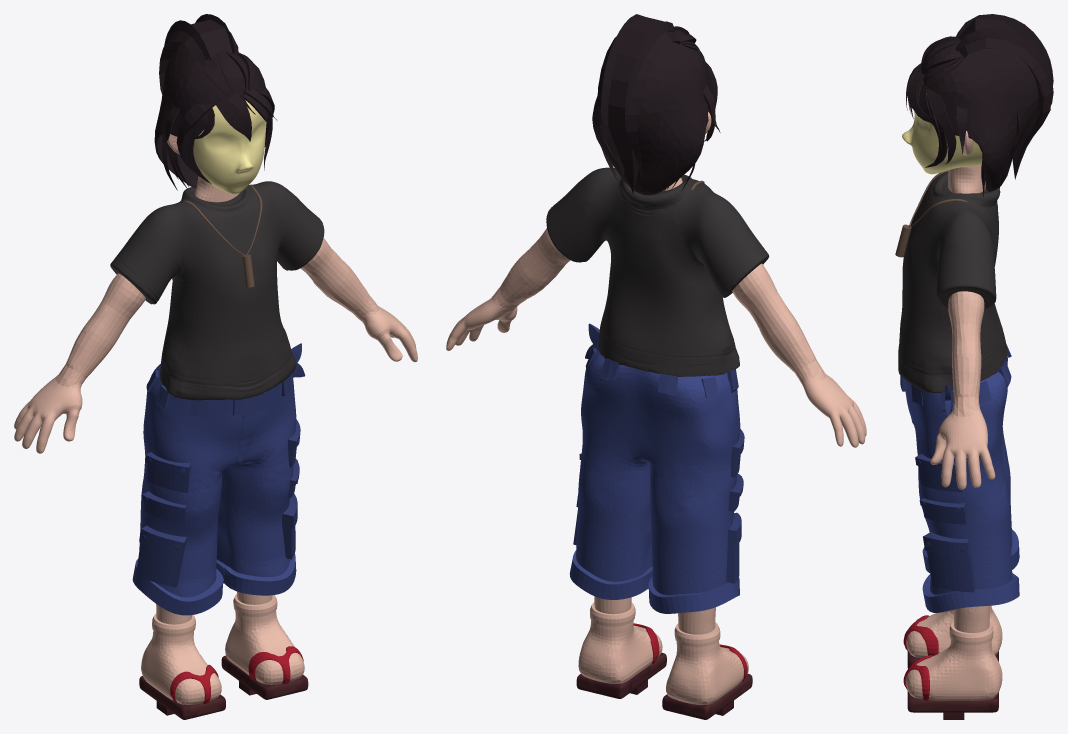
Rendered from renjiro.glb.
3 views of the same model, side by side, from view 1: azimuth 30°, elevation 25°; view 2: azimuth 150°, elevation 25°; view 3: azimuth 270°, elevation 25° (orthographic). The views are drawn at different scales.
Parts seen in each view (by area): view 1: polera, Caja, Tubo, braso, Espejo 7, Cilindro 1, cara 1, Espejo 21, Espejo 4, collar; view 2: Caja, polera, Tubo, braso, Espejo 7, Espejo 4, Cilindro 1, Espejo 21; view 3: Tubo, polera, Caja, Espejo 7, braso, Cilindro 1, Espejo 21, Espejo 4, cara 1, cuello, collar.
Boxes of the visible parts, x1,y1,x2,y2 form: polera: (110, 181, 324, 400); Caja: (139, 364, 296, 597); Tubo: (154, 14, 276, 190); braso: (14, 238, 417, 453); Espejo 7: (141, 591, 304, 704); Cilindro 1: (136, 343, 305, 587); cara 1: (193, 100, 266, 194); Espejo 21: (139, 646, 308, 719); Espejo 4: (132, 554, 296, 615); collar: (183, 184, 262, 287); Caja: (576, 347, 740, 594); polera: (546, 167, 769, 376); Tubo: (592, 14, 720, 195); braso: (446, 228, 866, 447); Espejo 7: (578, 596, 748, 704); Espejo 4: (569, 550, 739, 613); Cilindro 1: (573, 323, 744, 583); Espejo 21: (576, 623, 752, 719); Tubo: (906, 14, 1053, 196); polera: (898, 171, 1007, 392); Caja: (905, 355, 1012, 594); Espejo 7: (905, 605, 1002, 700); braso: (930, 291, 995, 489); Cilindro 1: (900, 344, 1011, 592); Espejo 21: (903, 615, 998, 719); Espejo 4: (922, 529, 1019, 612); cara 1: (902, 94, 982, 174); cuello: (948, 164, 985, 193); collar: (895, 170, 967, 257).
Bounding box in the file's own units: 0.5923 × 0.9503 × 0.2039.
